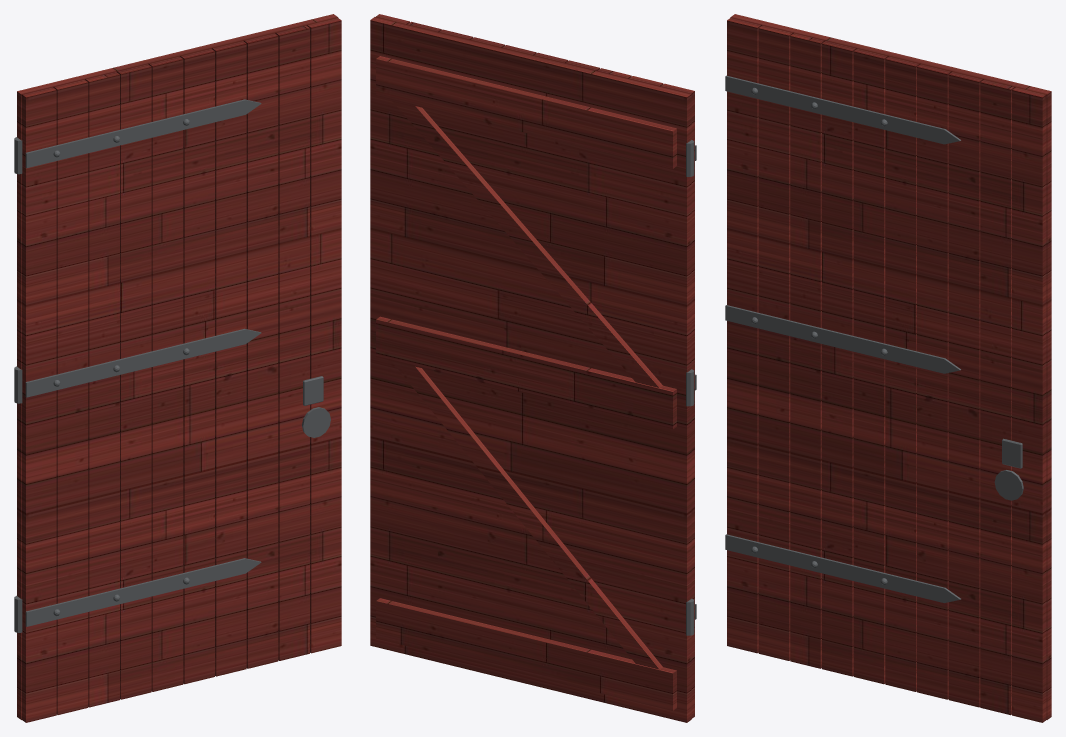
File: gate_leaf.glb
3 renders of one model, left to right at view 1: azimuth 30°, elevation 25°; view 2: azimuth 150°, elevation 25°; view 3: azimuth 330°, elevation 25°, orthographic.
Visible parts, largest first — view 1: gate_leaf_gatewood, gate_leaf_iron; view 2: gate_leaf_gatewood, gate_leaf_iron; view 3: gate_leaf_gatewood, gate_leaf_iron.
Boxes of the visible parts, bbox=[...] form: gate_leaf_gatewood: bbox=[17, 14, 341, 722]; gate_leaf_iron: bbox=[14, 99, 330, 632]; gate_leaf_gatewood: bbox=[370, 14, 694, 722]; gate_leaf_iron: bbox=[686, 140, 696, 635]; gate_leaf_gatewood: bbox=[727, 14, 1051, 722]; gate_leaf_iron: bbox=[725, 75, 1023, 602].
Size of the model in its own units: 1.61 by 3 by 0.151.
Materials: 2 (1 with a texture image).
